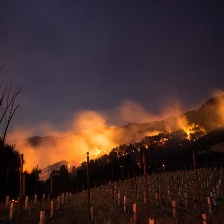fire: (154, 135, 170, 147), (185, 123, 195, 142), (135, 144, 147, 152)
smoke: (18, 112, 118, 156), (122, 97, 182, 132)
